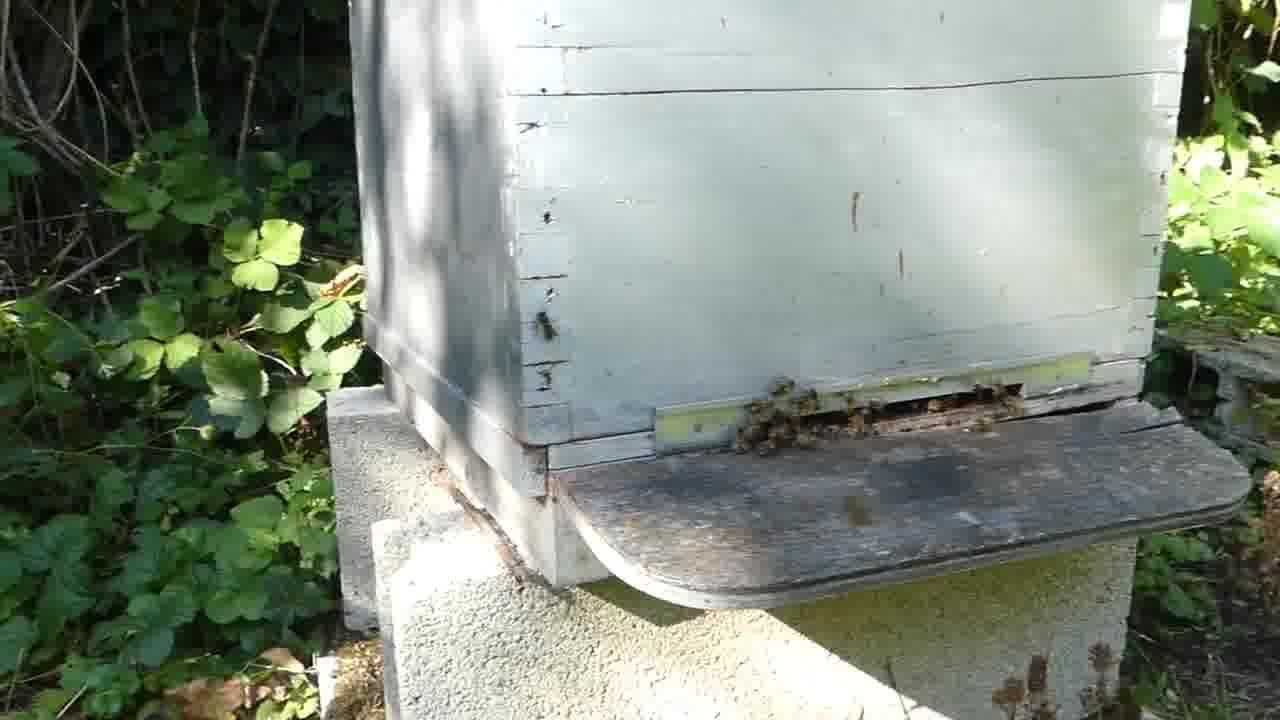bee: (533, 310, 561, 338)
